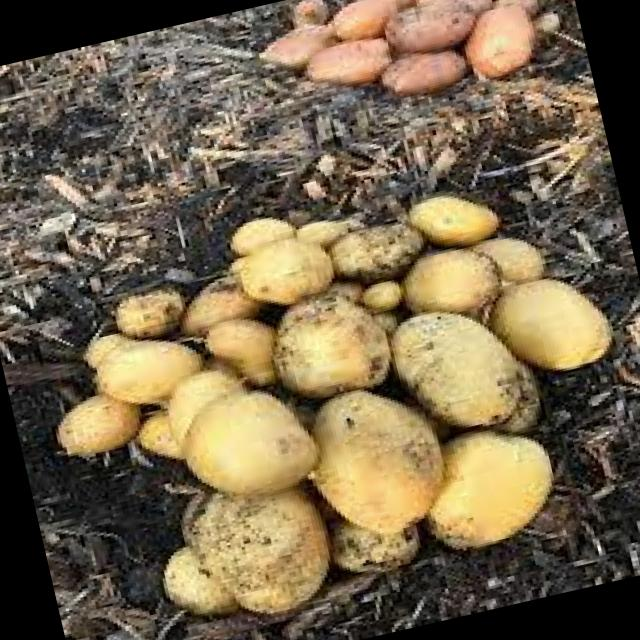Potato: (156, 459, 362, 640), (367, 286, 538, 450), (413, 404, 583, 568), (161, 372, 349, 516), (304, 379, 457, 545), (478, 252, 636, 400), (247, 270, 398, 414), (72, 314, 228, 424), (383, 232, 517, 334), (218, 218, 352, 316), (132, 530, 256, 634), (389, 170, 509, 260), (185, 297, 292, 397), (38, 376, 156, 466), (311, 206, 426, 282), (108, 280, 194, 342)
